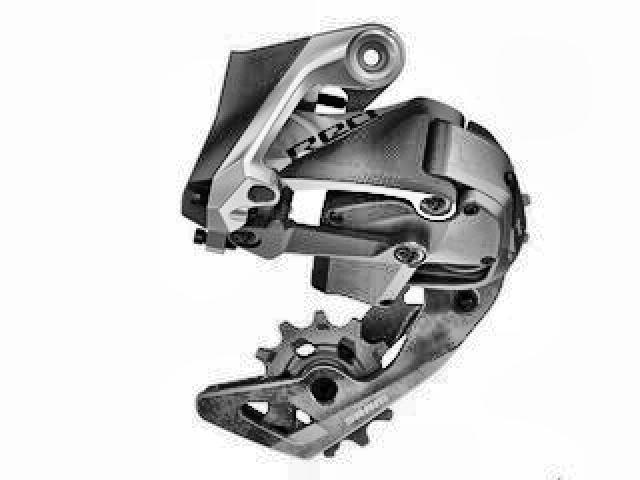rear_derailleur: (181, 19, 531, 463)
